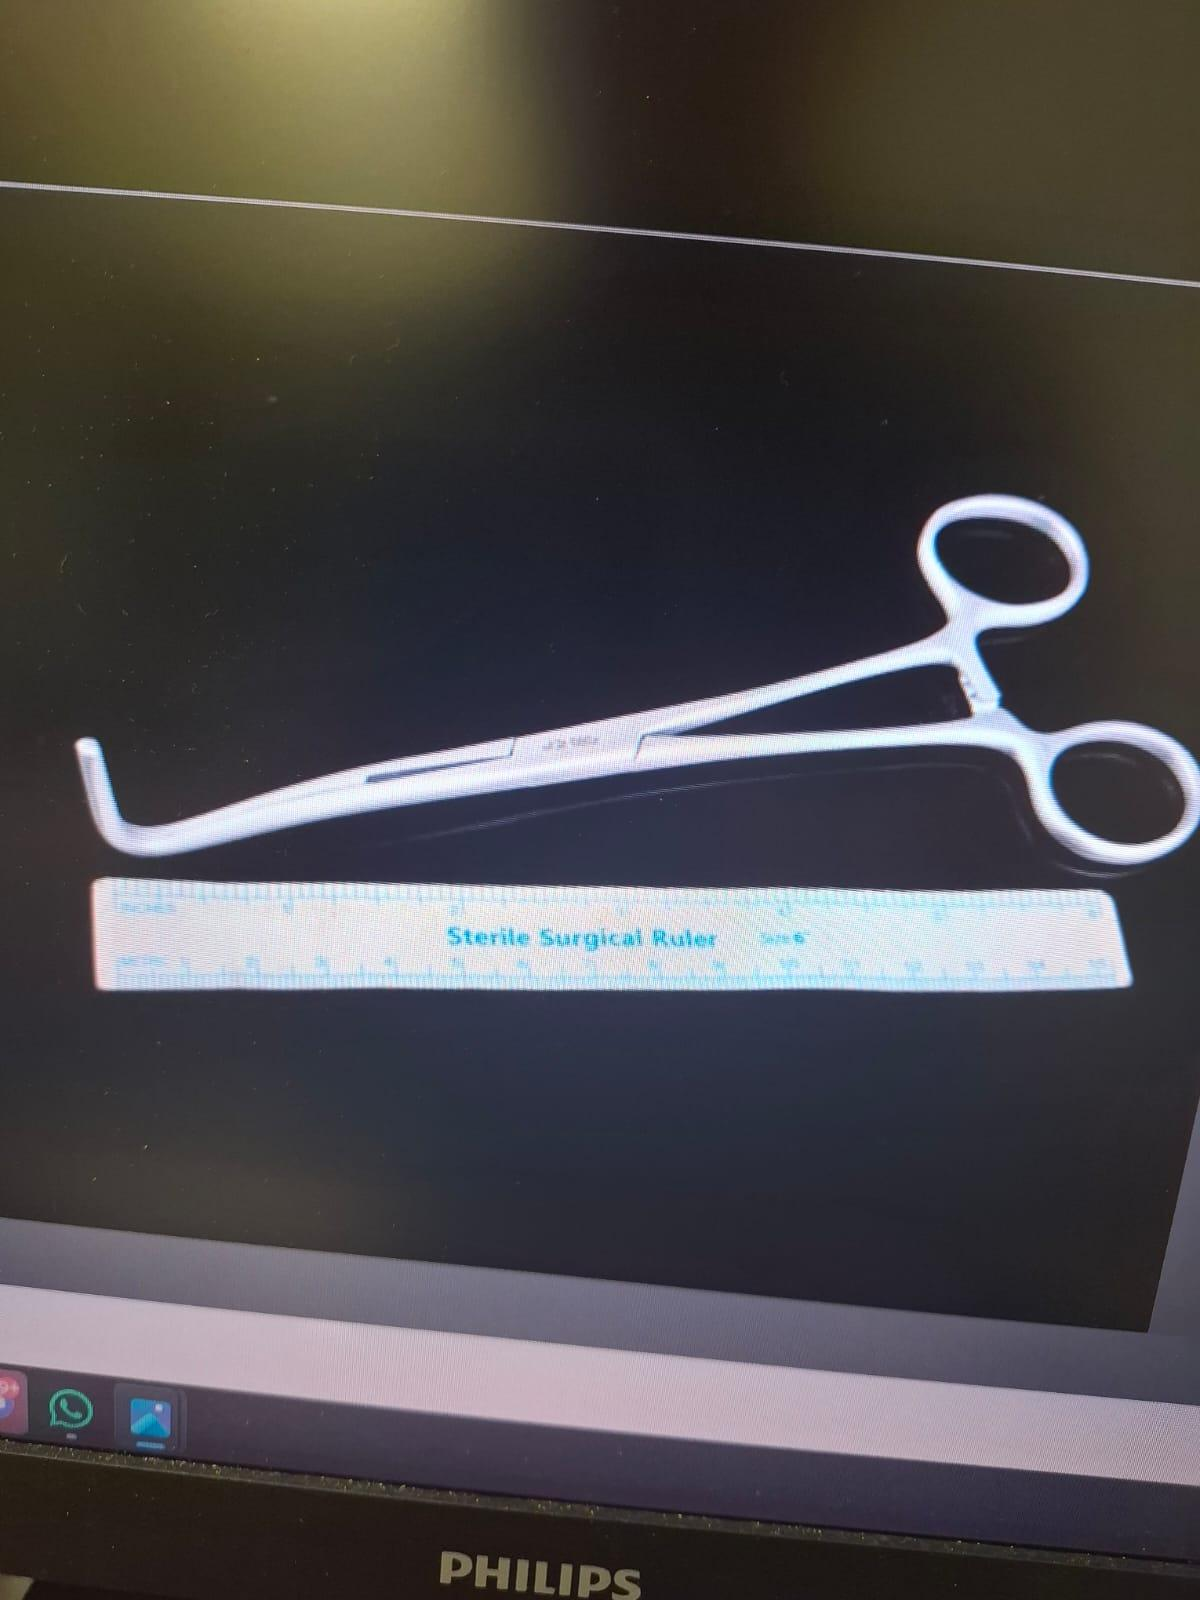Rectangle Cholecystectomy Forceps: (58, 490, 1200, 907)
